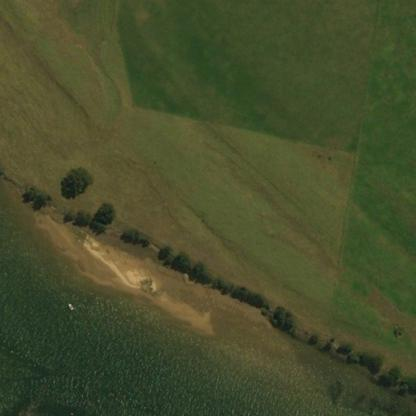ship: (68, 302, 73, 310)
